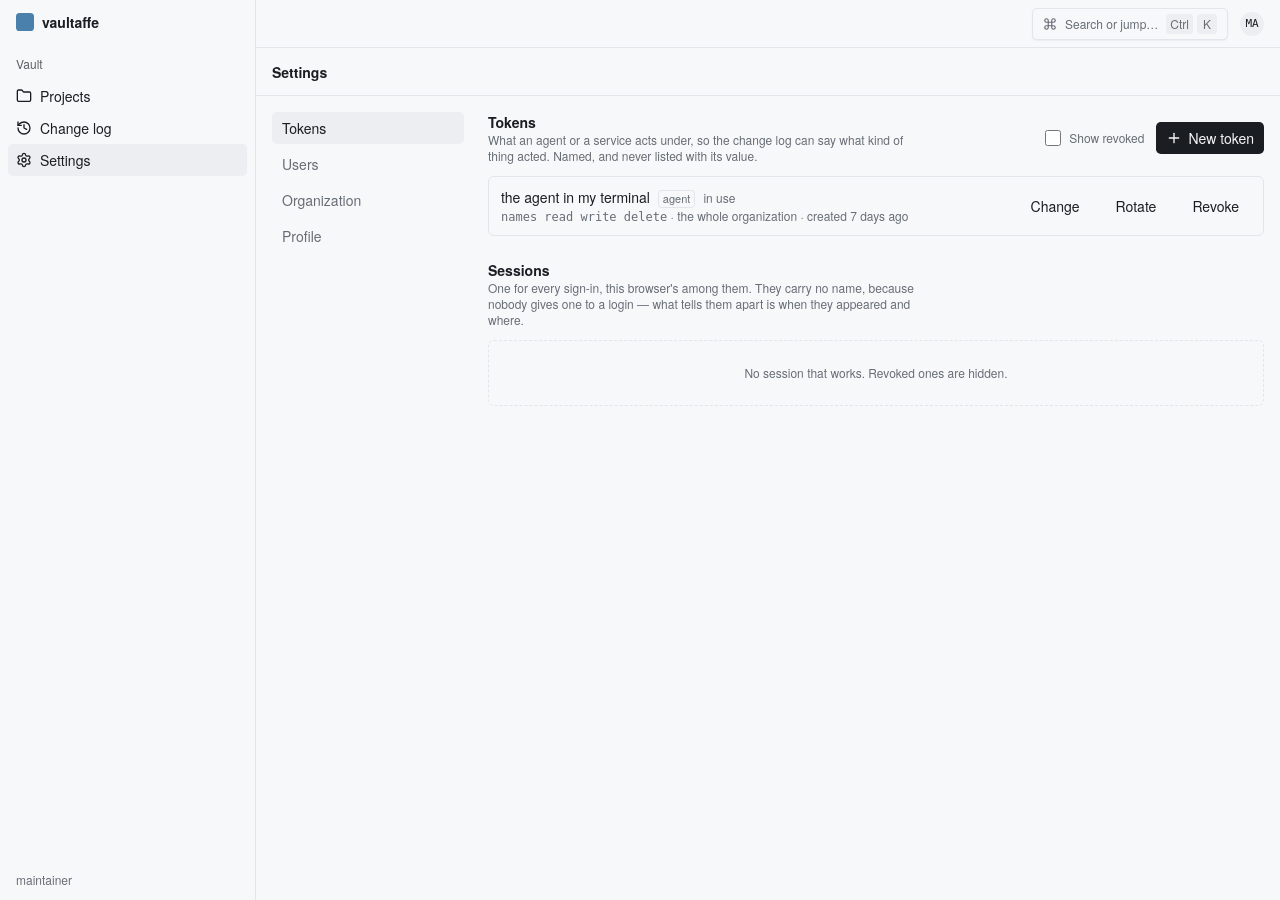
Test: the tokens › rotates a token and shows the new value once
Click the button "Rotate" at (1136, 206), box 1104,190 -> 1168,222
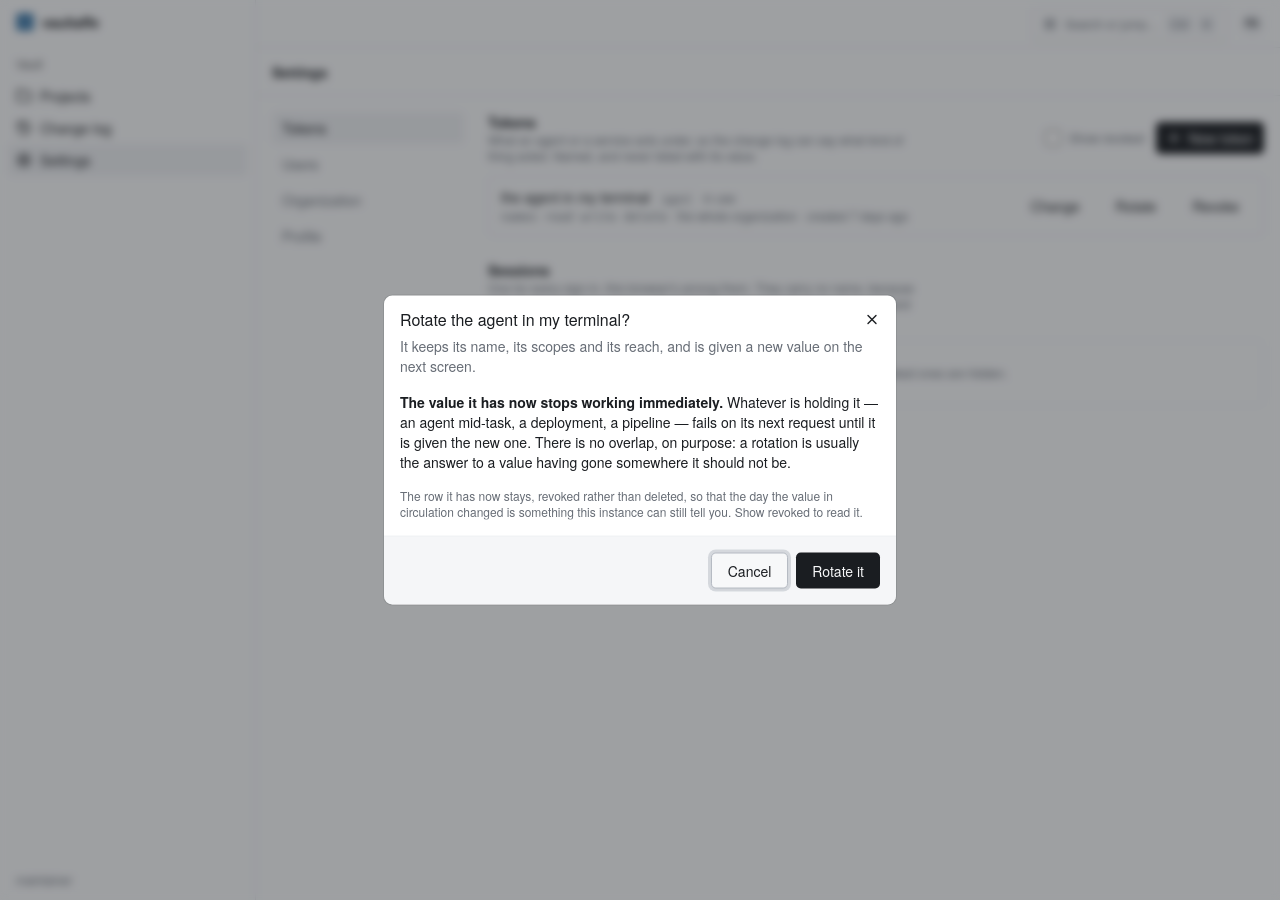
Result: the text "The value it has now stops working immediately." is shown at 400,392 -> 723,412
Click the button "Rotate it" at (838, 570), box 796,552 -> 880,588
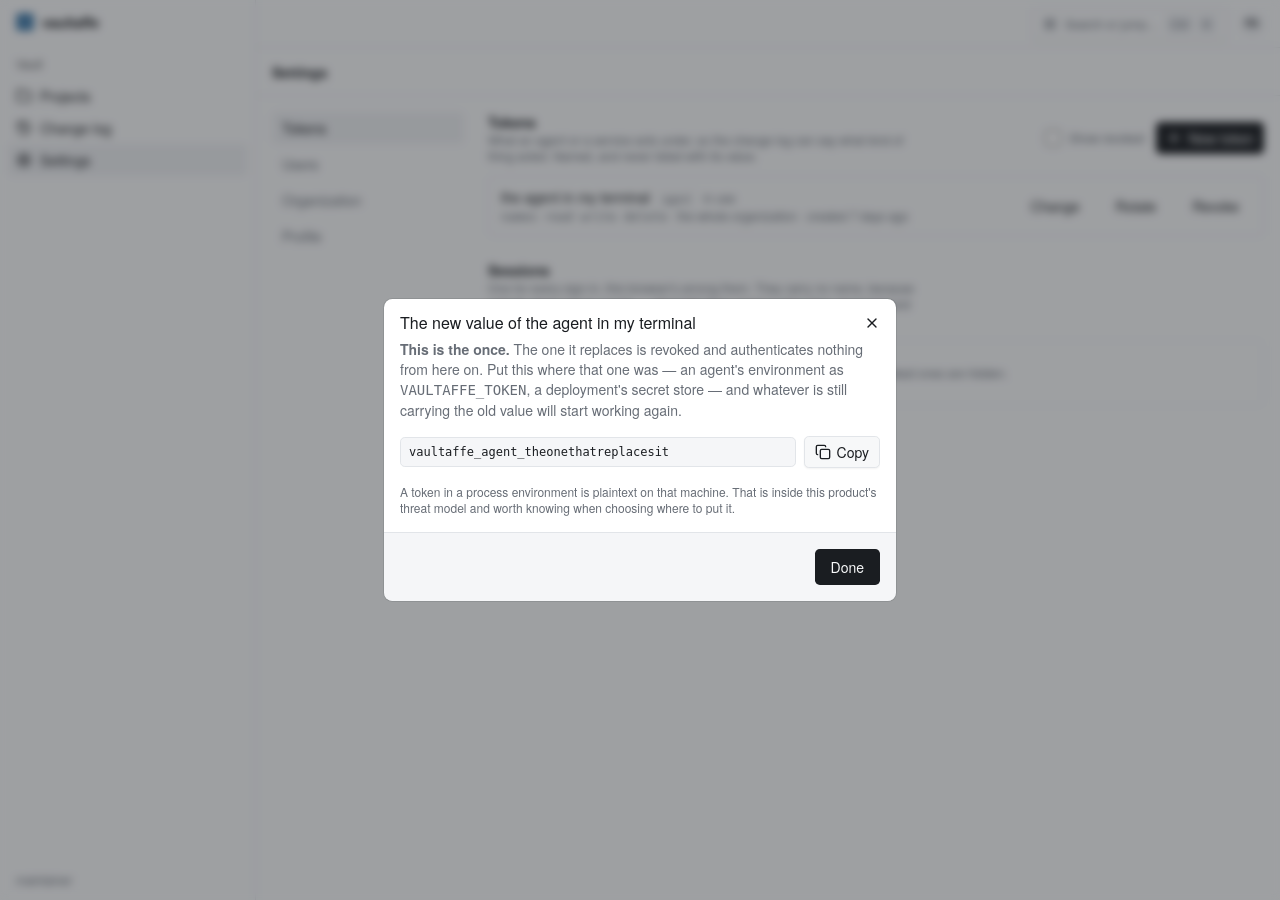
Result: the text "vaultaffe_agent_theonethatreplacesit" is shown at 400,437 -> 796,467
Result: the button "Done" is shown at 814,549 -> 880,585
